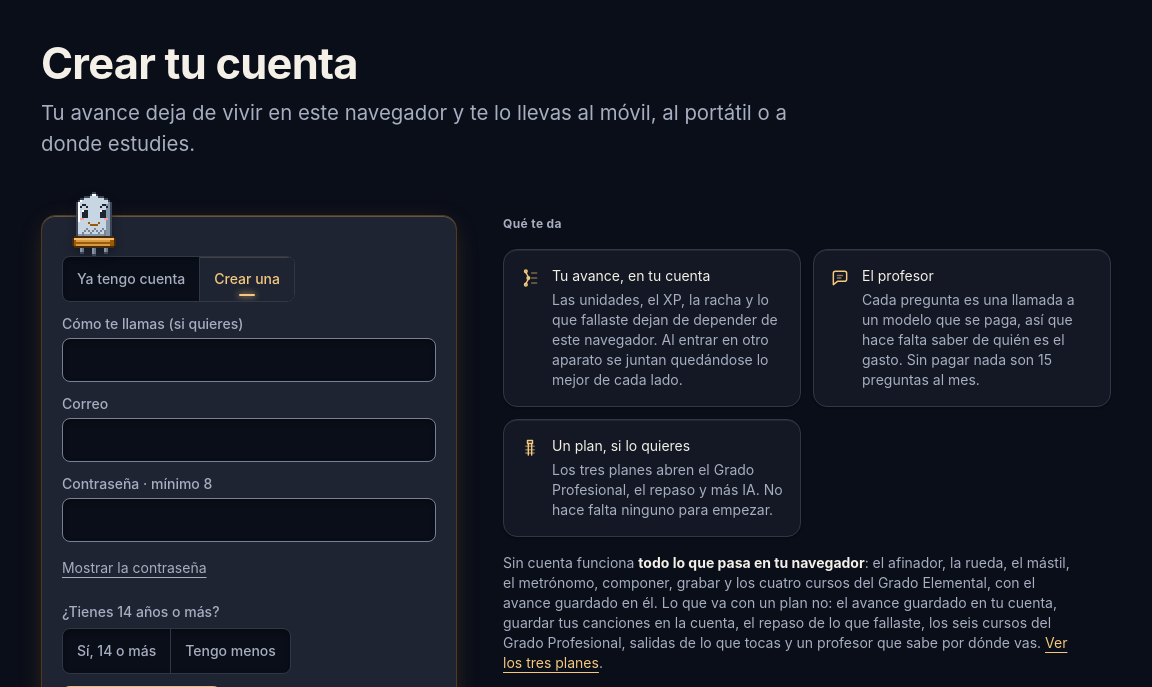
Test: Crear la cuenta › entrando con una cuenta de siempre no se felicita por crearla
Click the button "Ya tengo cuenta" at (131, 279), box [63,257,199,301]
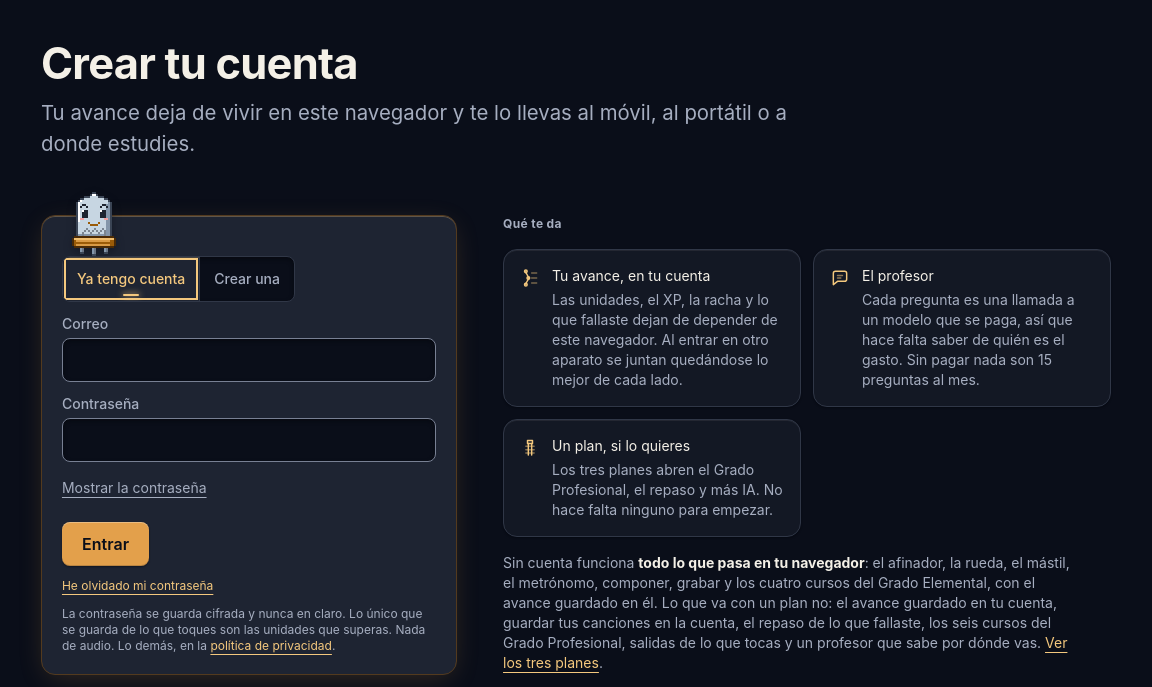
Type "javier@example.com" into the field labelled "Correo" at (249, 360), box [62,338,436,382]
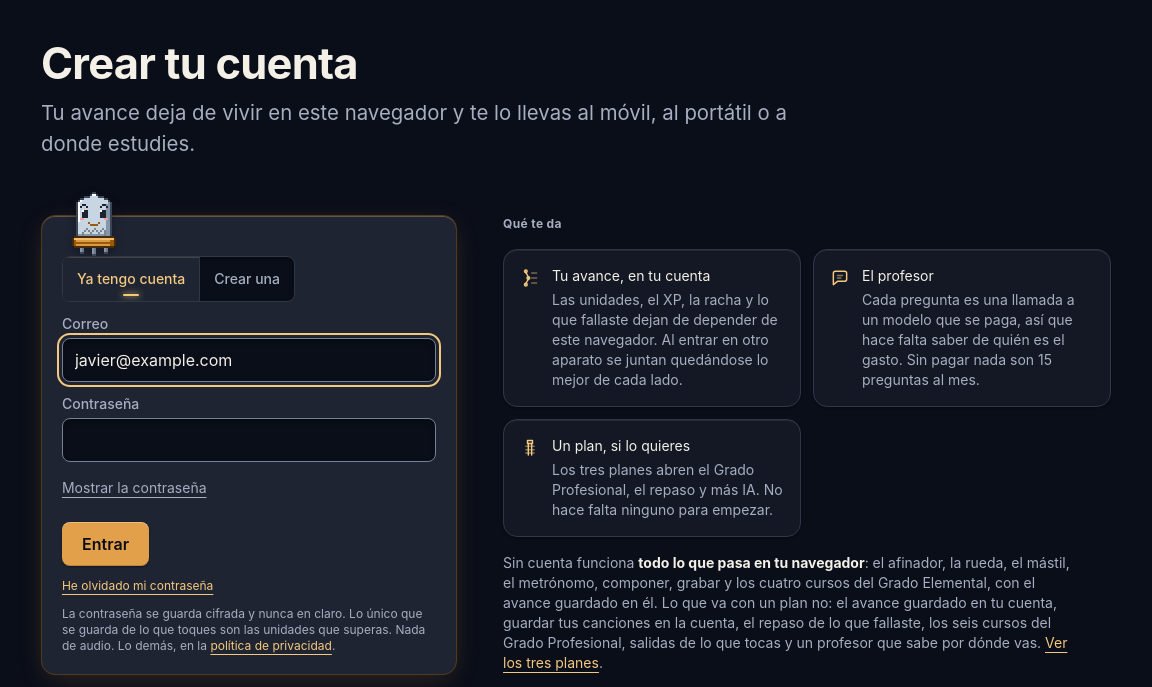
Type "ContrasenaLarga123" into the password field labelled "Contraseña" at (249, 440), box [62,418,436,462]
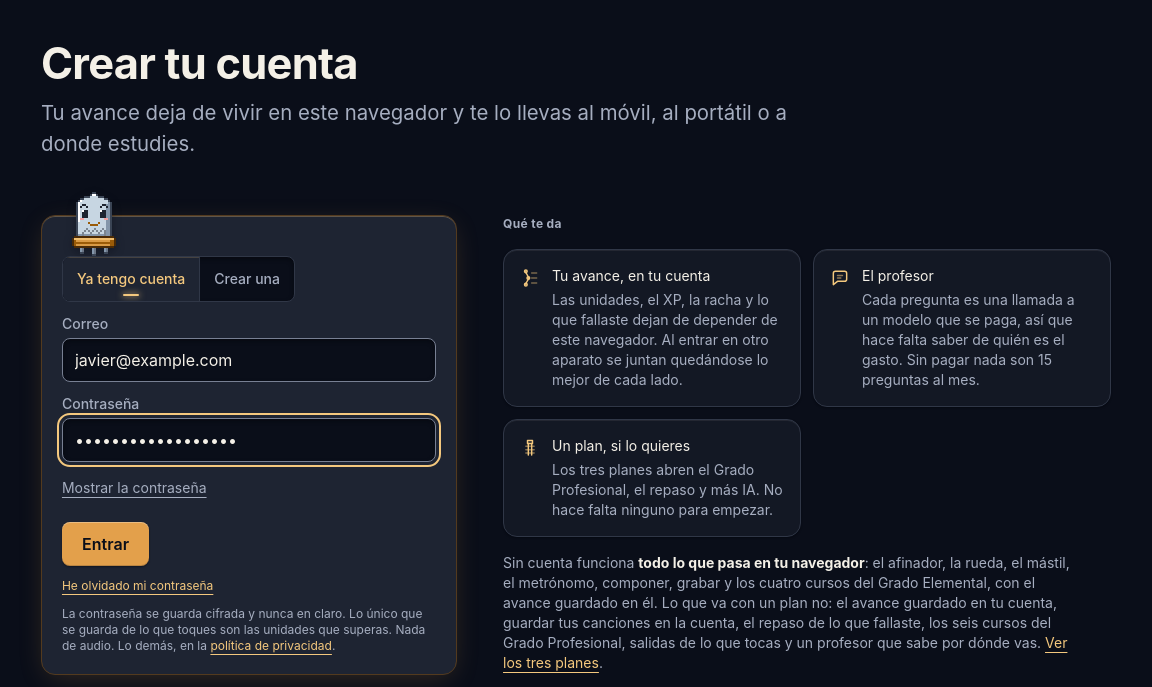
Click the button "Entrar" at (106, 544), box [62,522,149,566]
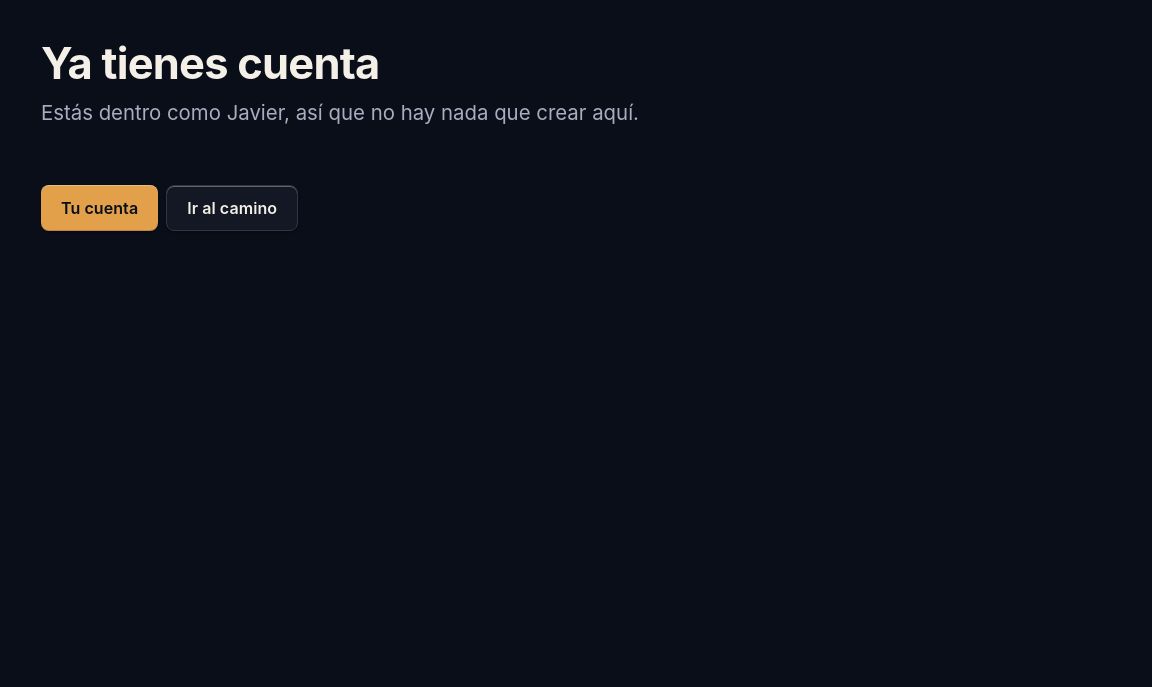
Check: the heading "Ya tienes cuenta" is shown, box [41,37,380,89]
